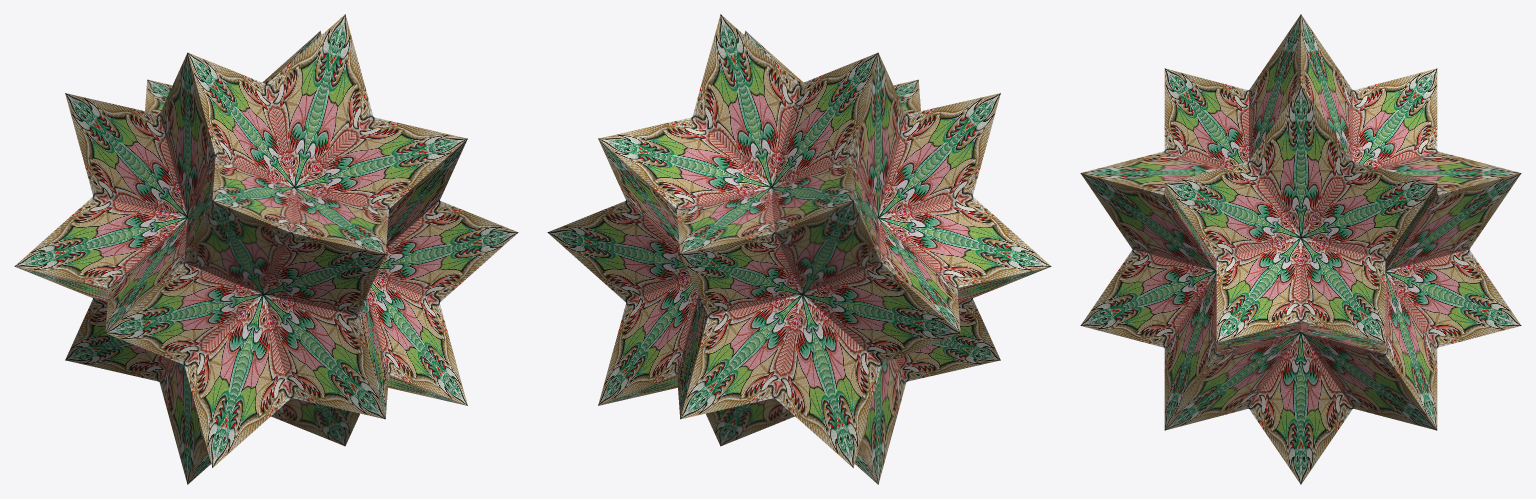
File: RhombicHexecontahedron7.obj
3 renders of one model, left to right at view 1: azimuth 30°, elevation 25°; view 2: azimuth 150°, elevation 25°; view 3: azimuth 270°, elevation 25°, orthographic. The views are drawn at different scales.
Size of the model in its own units: 4.45 by 4.45 by 4.45.
Materials: 1 (1 with a texture image).
